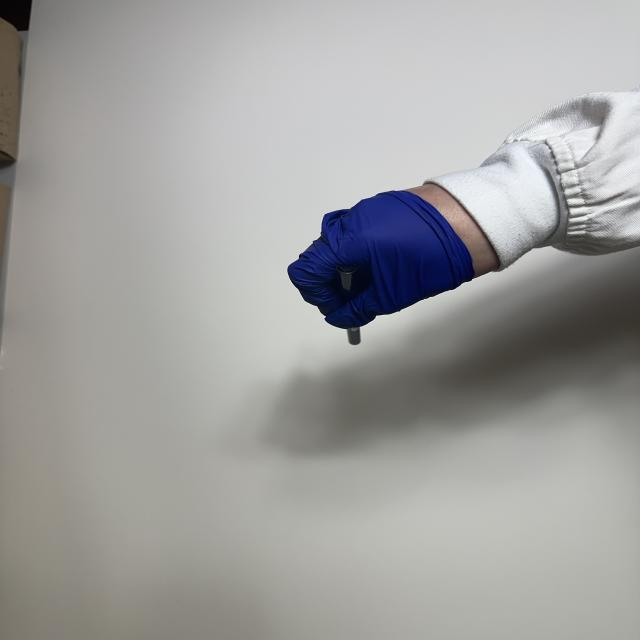glove_partial: (286, 175, 509, 332)
